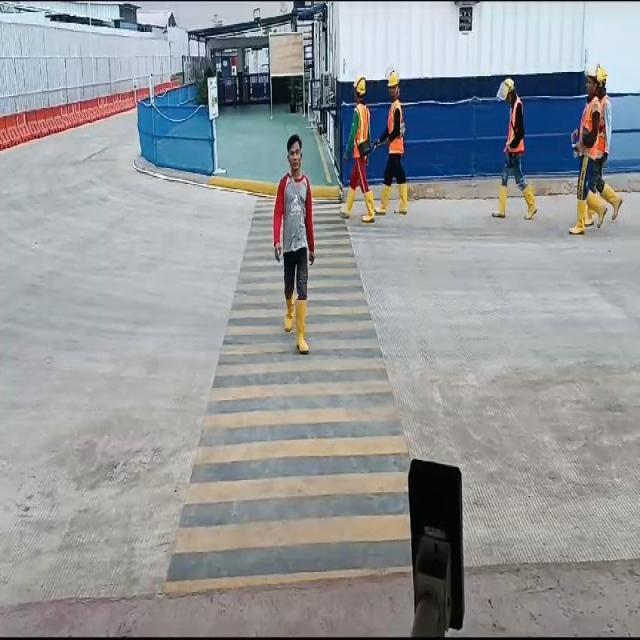helmet: (500, 76, 515, 98), (386, 69, 400, 86), (584, 62, 598, 78), (355, 76, 367, 94), (597, 66, 609, 82), (392, 262, 393, 262)
safety_vest: (578, 100, 600, 150), (598, 94, 610, 164), (355, 106, 370, 160), (508, 102, 524, 152), (388, 105, 404, 153)
